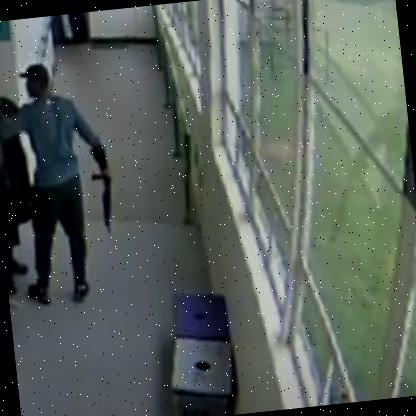person: (1, 52, 122, 320)
